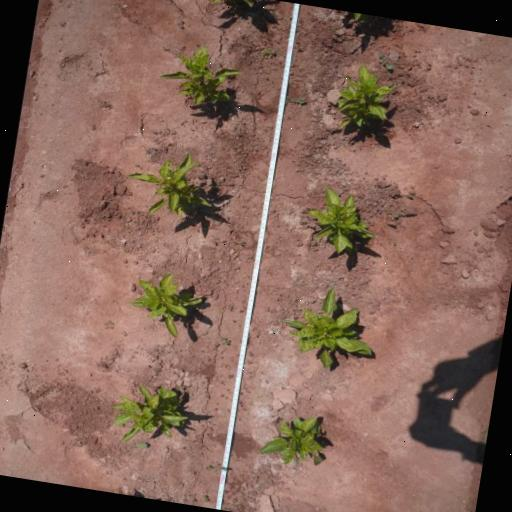plant: (275, 278, 385, 378), (118, 143, 222, 228), (150, 37, 250, 112), (298, 183, 383, 264), (122, 266, 207, 346), (104, 378, 195, 450), (330, 62, 400, 138), (257, 412, 328, 467)
weed: (374, 52, 396, 70), (202, 462, 228, 475), (283, 94, 307, 108), (124, 440, 148, 454), (257, 46, 276, 60), (229, 237, 248, 248), (101, 319, 116, 332), (218, 336, 232, 346), (96, 98, 110, 108), (200, 494, 210, 504), (226, 302, 234, 313), (176, 17, 184, 28), (291, 457, 300, 466), (330, 26, 338, 35), (404, 193, 414, 198)
